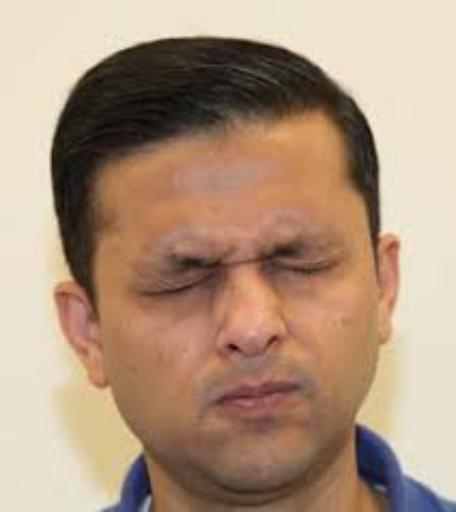left_eye: (266, 257, 338, 281)
left_lip_corner: (289, 376, 311, 401)
right_eye: (140, 268, 205, 302)
right_lip_corner: (206, 392, 230, 413)
